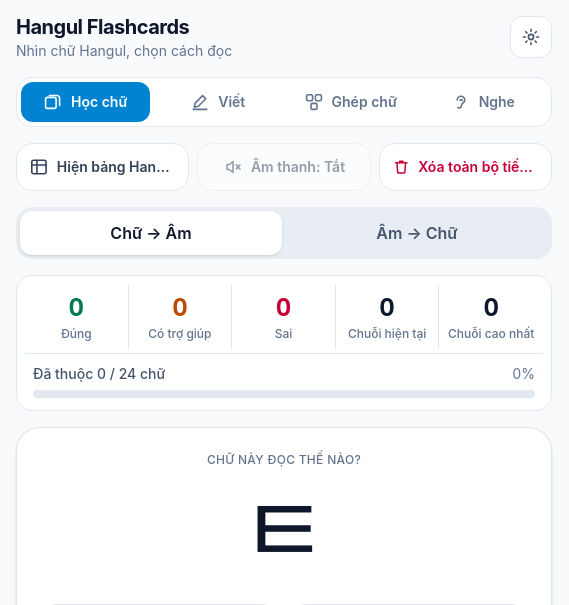
Test case: ListeningSection › counts replays before the answer, not after
The width and height of the screenshot is (569, 605).
Click the button "Nghe" at (483, 102), box left=418, top=82, right=547, bottom=122
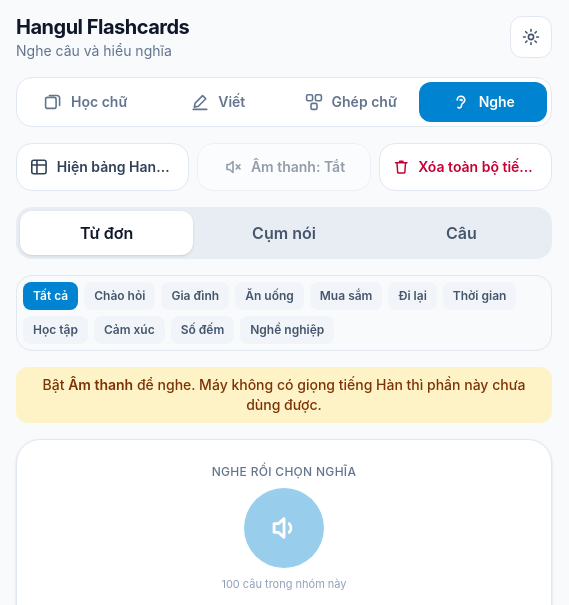
Result: the button named "Phát câu tiếng Hàn" is disabled at left=244, top=488, right=324, bottom=568
